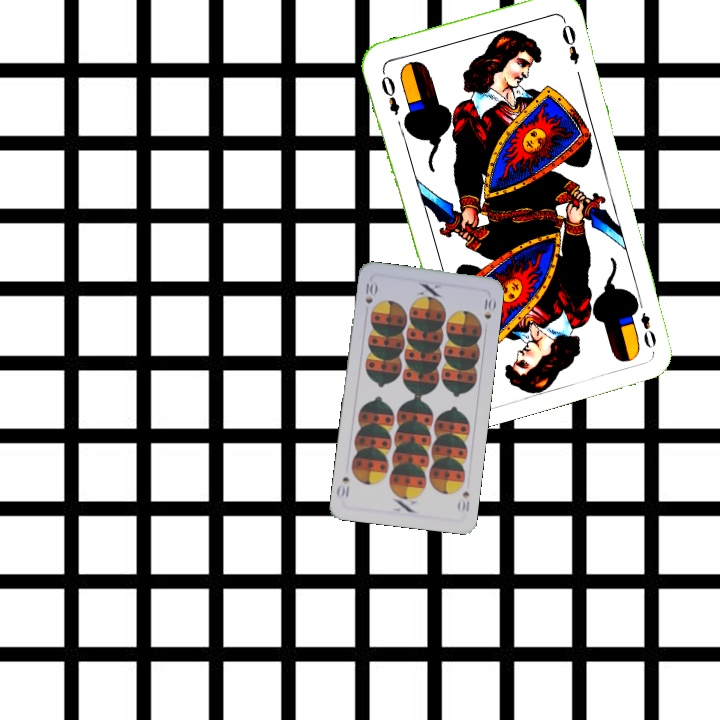EO: (630, 294, 659, 351), (377, 66, 402, 118)
S10: (454, 487, 472, 514), (361, 279, 378, 306)
